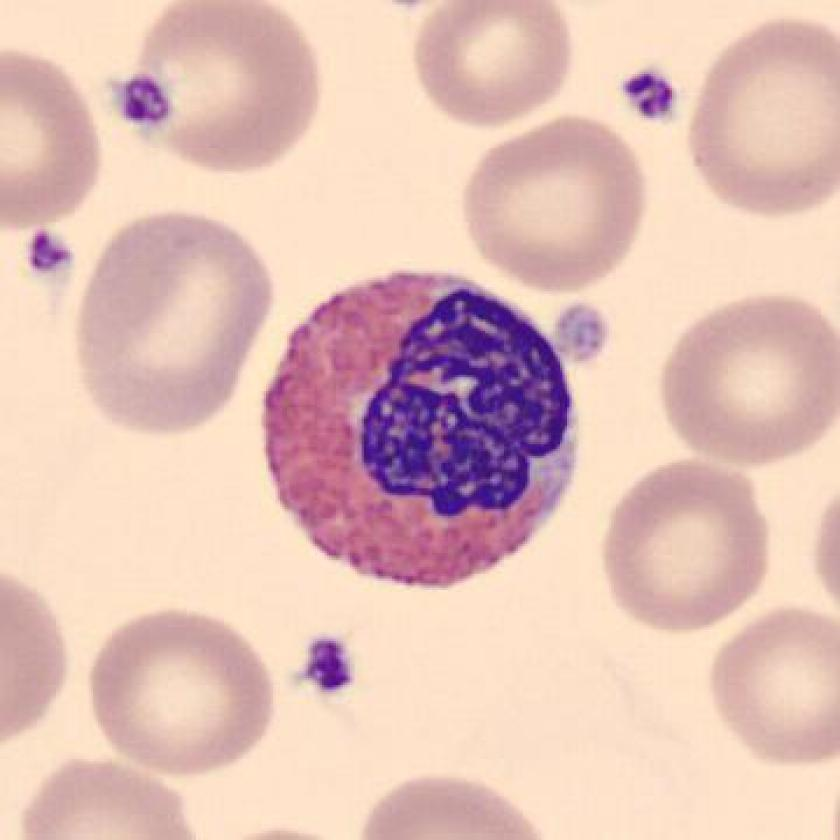eosinophil: (251, 256, 594, 605)
